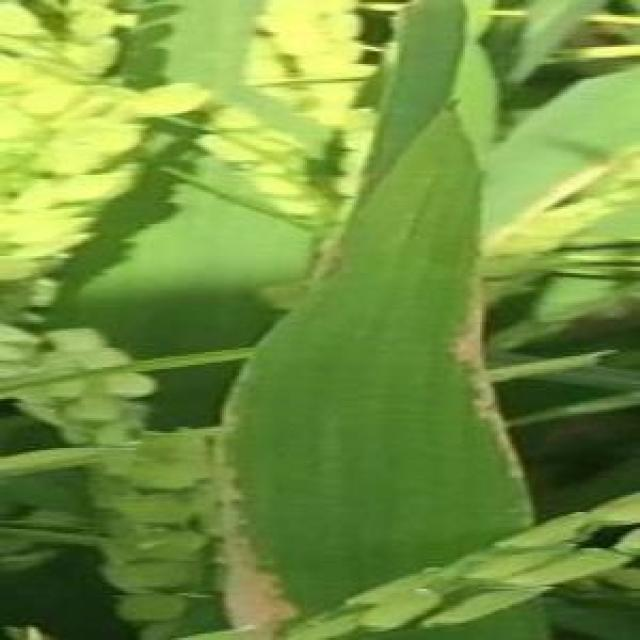Bacterial_Blight: (435, 284, 525, 482), (217, 449, 307, 633)
